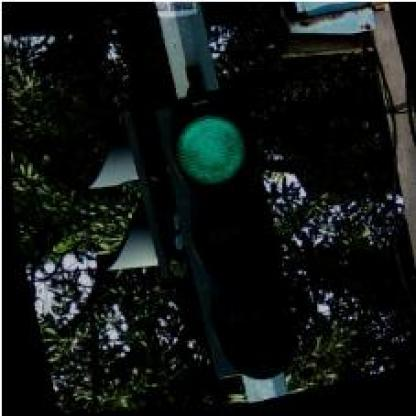green: (148, 83, 306, 386)
